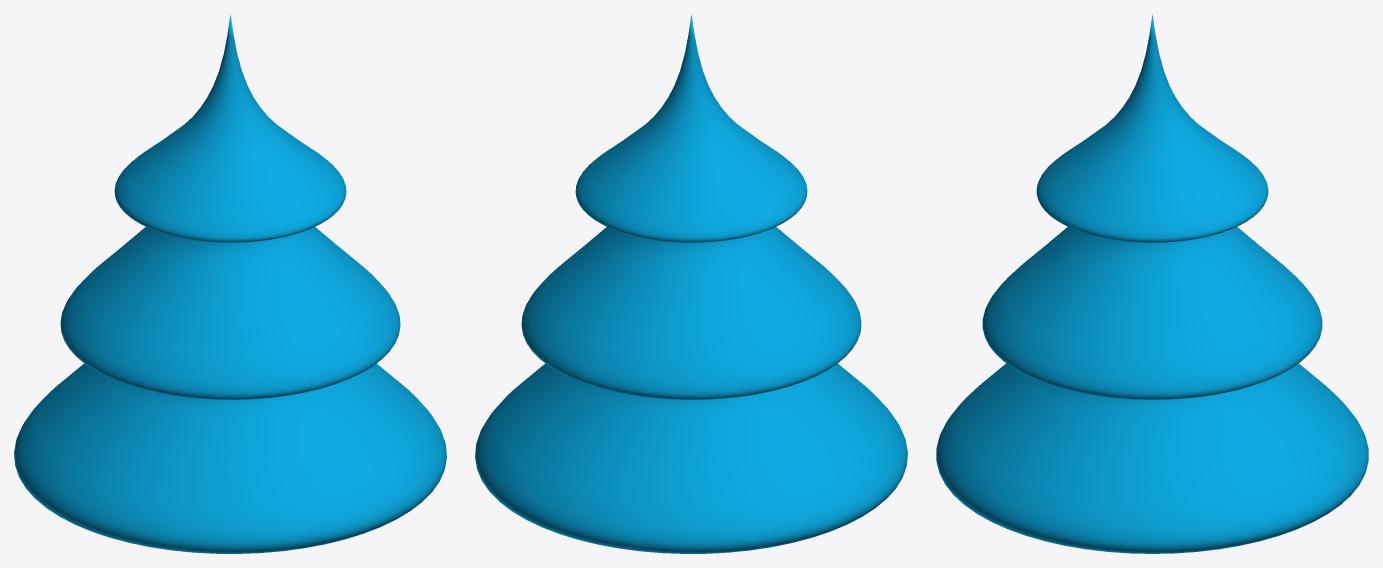
3 renders of one model, left to right at view 1: azimuth 30°, elevation 25°; view 2: azimuth 150°, elevation 25°; view 3: azimuth 270°, elevation 25°, orthographic.
Parts seen in each view (by area): view 1: Object_2; view 2: Object_2; view 3: Object_2.
Boxes of the visible parts, bbox=[...] form: Object_2: bbox=[14, 14, 446, 553]; Object_2: bbox=[475, 14, 907, 553]; Object_2: bbox=[936, 14, 1368, 553].
Bounding box in the file's own units: 0.8567 × 1 × 0.8554.
